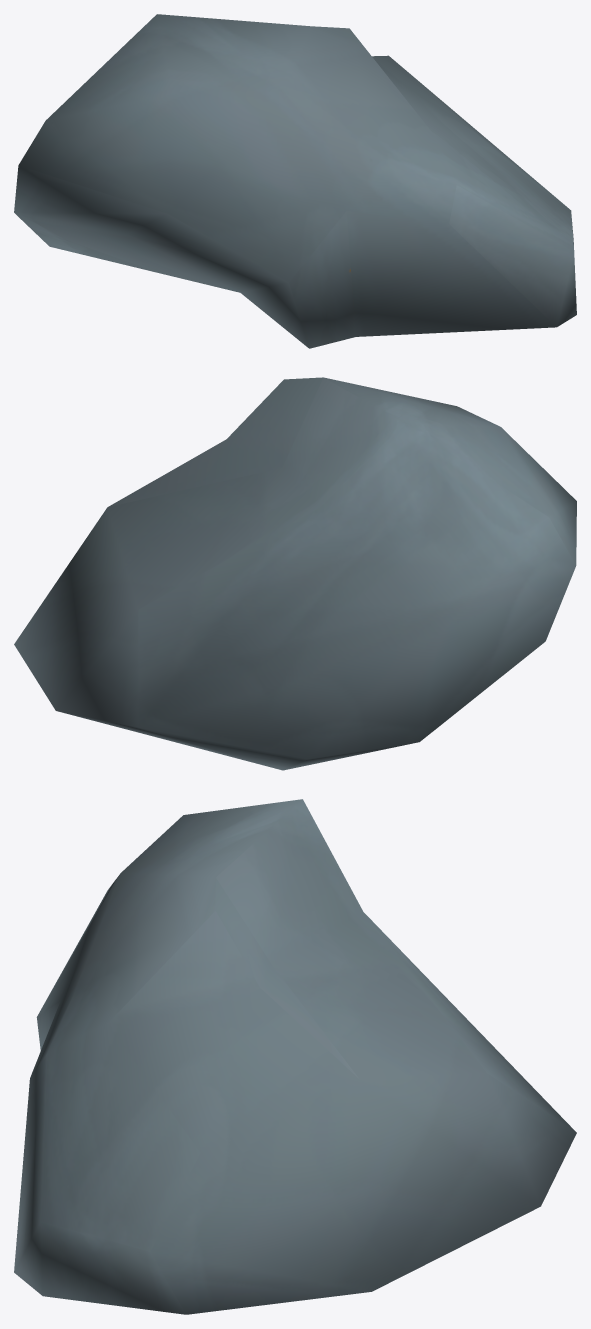
The model's file is Rock_01.fbx.
3 renders of one model, top to bottom at view 1: azimuth 30°, elevation 25°; view 2: azimuth 150°, elevation 25°; view 3: azimuth 270°, elevation 25°, orthographic. The views are drawn at different scales.
Parts seen in each view (by area): view 1: Rock_01; view 2: Rock_01; view 3: Rock_01.
Part boxes in pixels (x1=…): Rock_01: x1=14, y1=14, x2=576, y2=348; Rock_01: x1=14, y1=377, x2=576, y2=770; Rock_01: x1=14, y1=799, x2=576, y2=1314.
Bounding box in the file's own units: 136 × 78.29 × 114.
